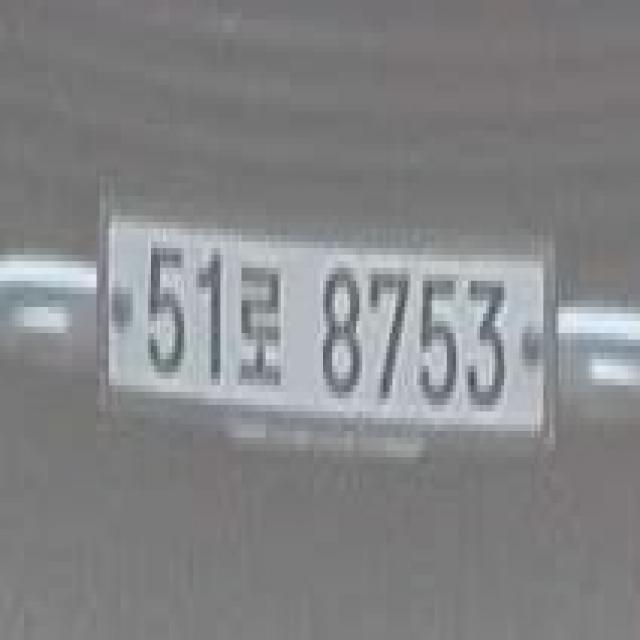1: (190, 244, 228, 400)
3: (464, 269, 512, 417)
5: (142, 228, 188, 378), (418, 266, 459, 419)
7: (368, 260, 411, 414)
8: (314, 255, 366, 404)
license_plate: (88, 168, 589, 487)
lo: (238, 249, 288, 412)
